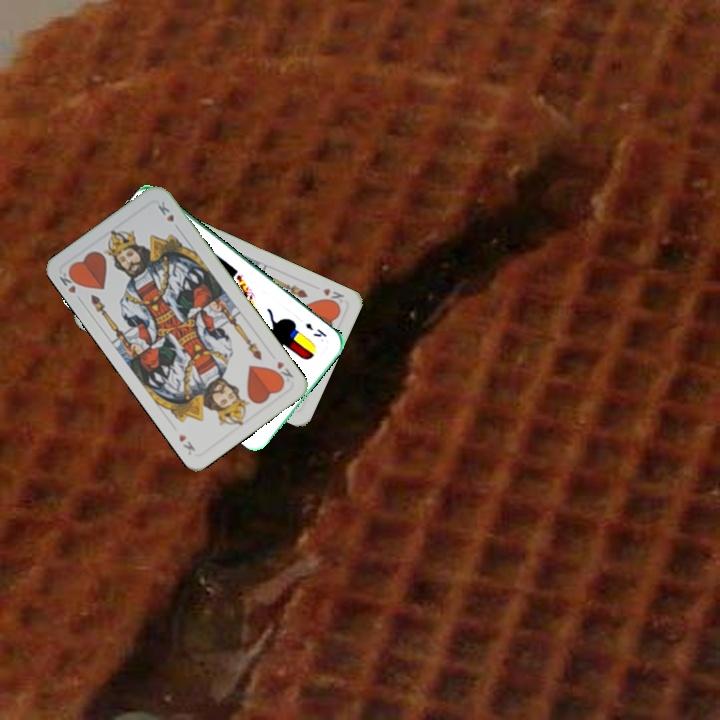EK: (301, 319, 329, 340)
HK: (55, 265, 85, 305), (269, 357, 296, 386), (318, 284, 347, 308)
